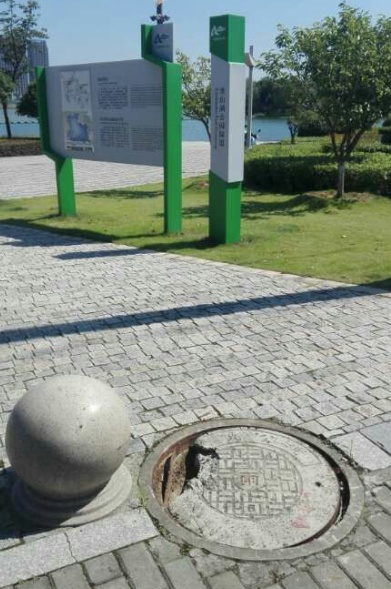broke: (136, 416, 364, 562)
